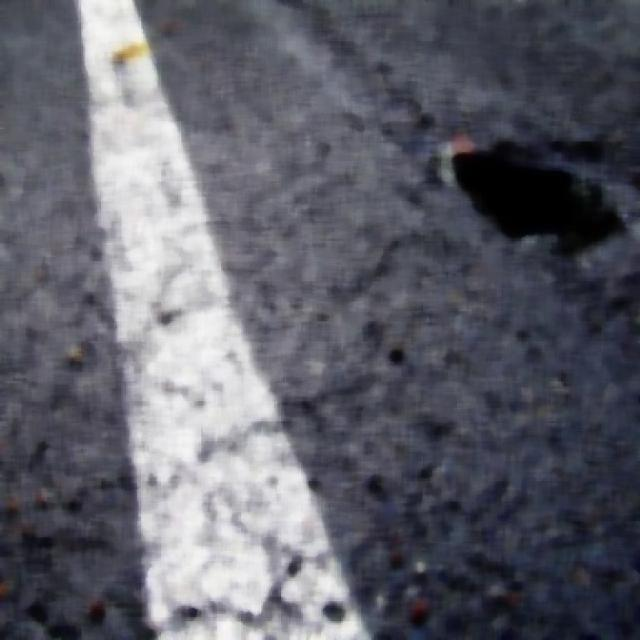Pothole: (440, 137, 638, 265)
